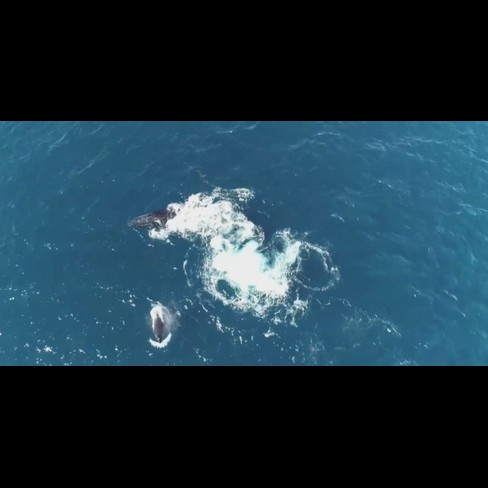orca: (118, 180, 257, 263), (128, 292, 195, 354)
